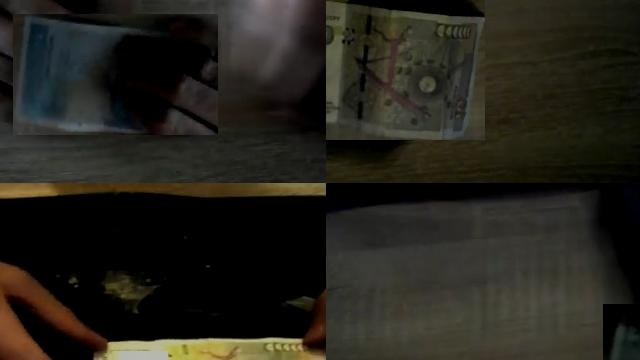10leva: (326, 0, 485, 140), (326, 0, 484, 140), (193, 344, 253, 360), (120, 351, 166, 360)
20leva: (13, 14, 218, 135)
